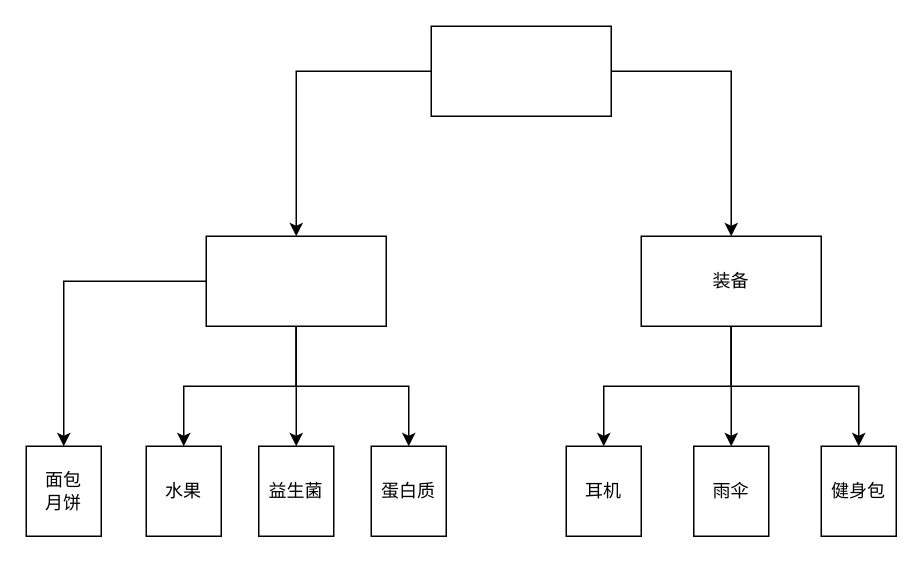
Image size: 923x563. Some labels were removed from this diagram. Here are the shapes that lost their labels. From the top down, the centre of each, then its label:
point (520, 70): 有效利用
point (295, 280): 食物
